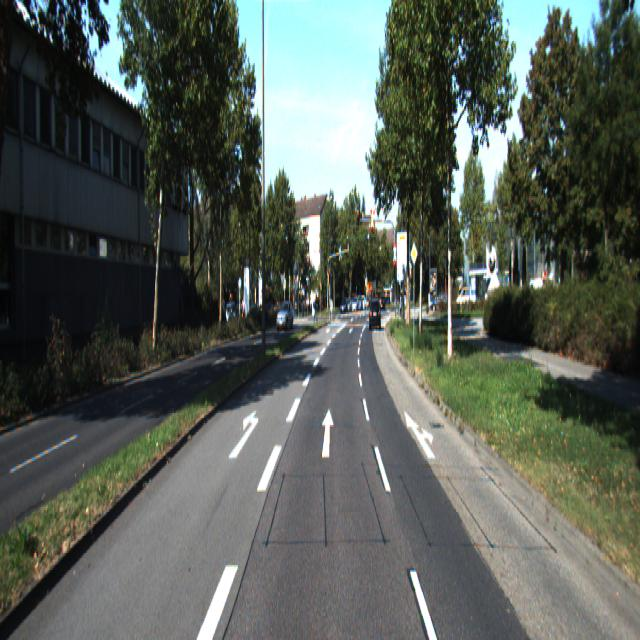Car: (276, 300, 294, 333), (369, 298, 381, 330)
